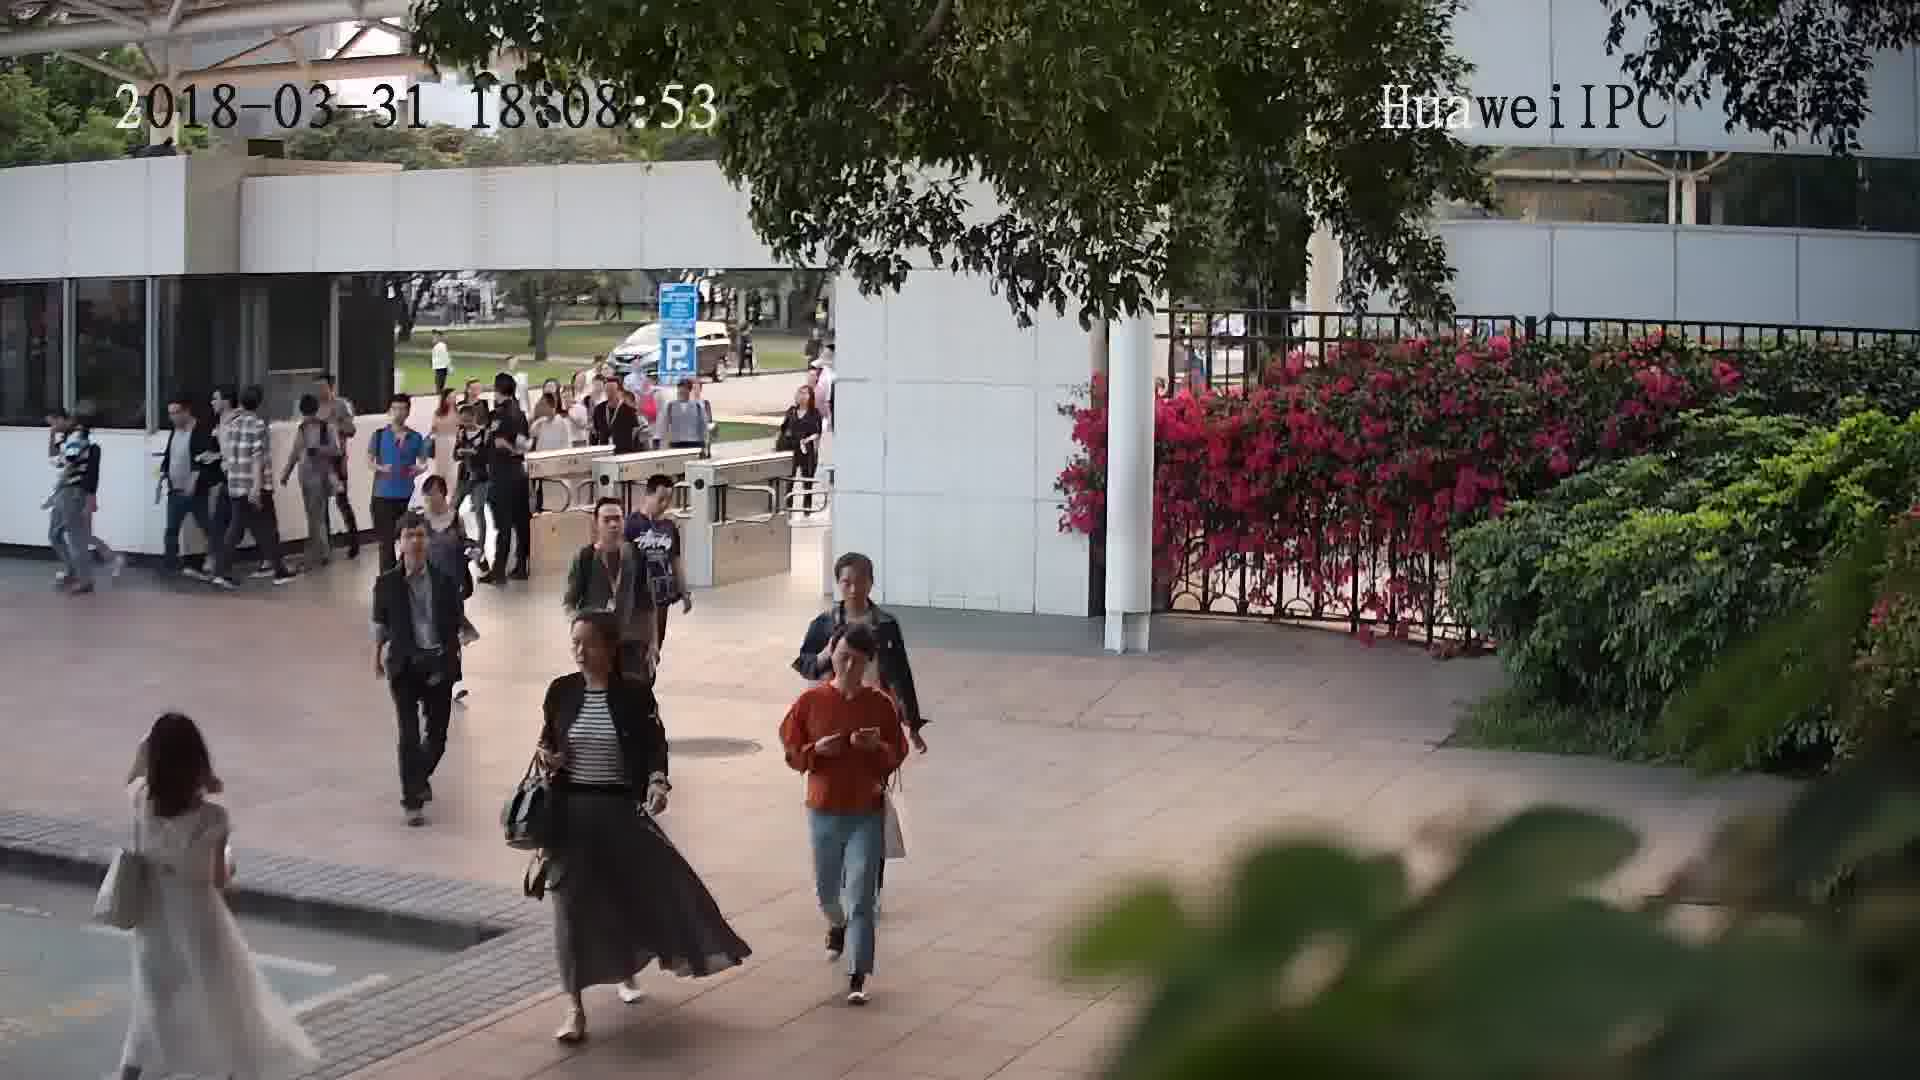face: (563, 620, 618, 675), (826, 638, 874, 686)
person: (122, 708, 232, 829), (794, 625, 902, 720), (547, 609, 649, 710), (371, 509, 455, 597), (816, 549, 901, 634), (573, 492, 647, 574), (628, 468, 679, 541), (403, 468, 464, 522), (366, 391, 420, 447), (50, 399, 100, 456), (484, 374, 530, 435), (163, 388, 208, 450), (221, 377, 267, 436), (287, 388, 333, 444), (597, 374, 643, 422), (306, 366, 350, 413), (530, 388, 572, 434), (662, 376, 710, 417), (432, 386, 469, 431), (456, 400, 491, 445), (786, 385, 821, 417), (428, 326, 456, 357), (803, 367, 826, 404)
